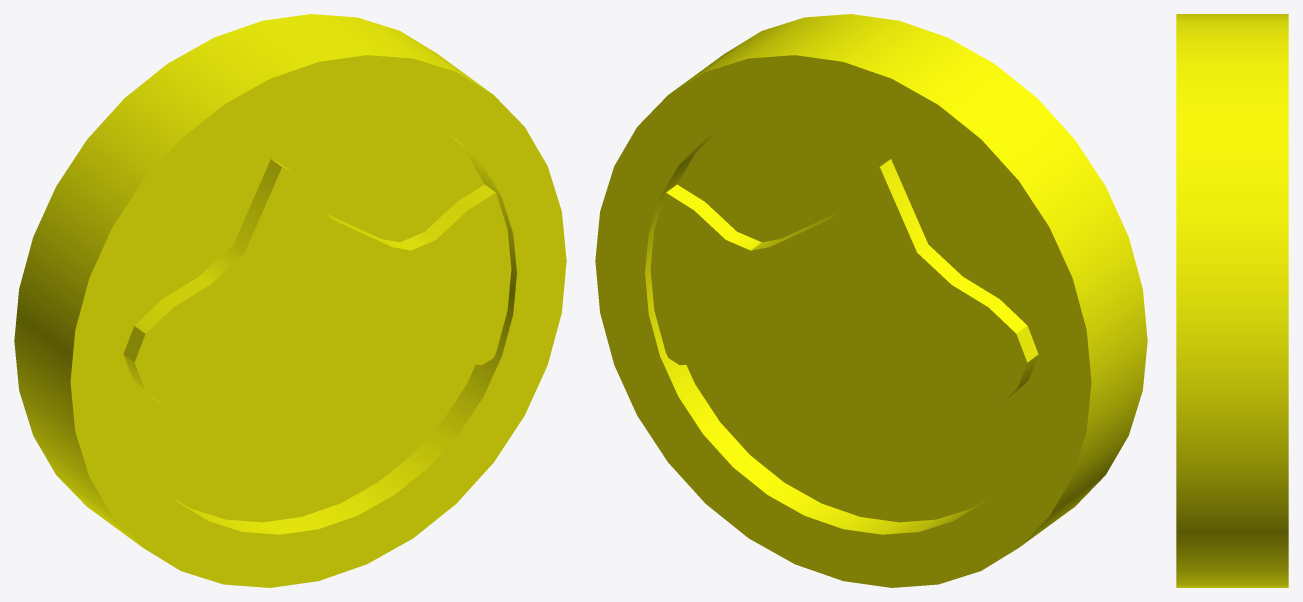
Rendered from coin.obj.
3 renders of one model, left to right at view 1: azimuth 30°, elevation 25°; view 2: azimuth 150°, elevation 25°; view 3: azimuth 270°, elevation 25°, orthographic.
Parts seen in each view (by area): view 1: Cylinder; view 2: Cylinder; view 3: Cylinder.
Boxes of the visible parts, box(x1,y1,x2,y2) form: Cylinder: box(14, 14, 566, 587); Cylinder: box(595, 14, 1147, 587); Cylinder: box(1176, 14, 1288, 587).
Bounding box in the file's own units: 5.1 × 5.1 × 1.
